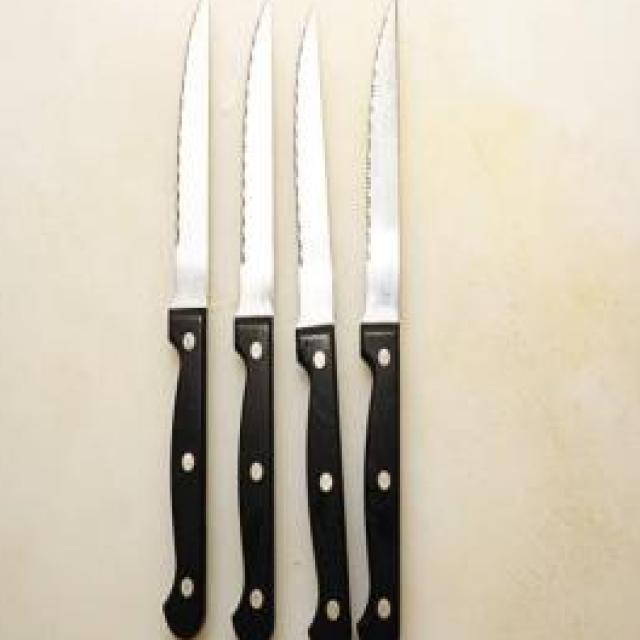knife: (293, 7, 349, 640), (160, 0, 211, 640), (225, 0, 274, 640), (354, 0, 400, 640)
